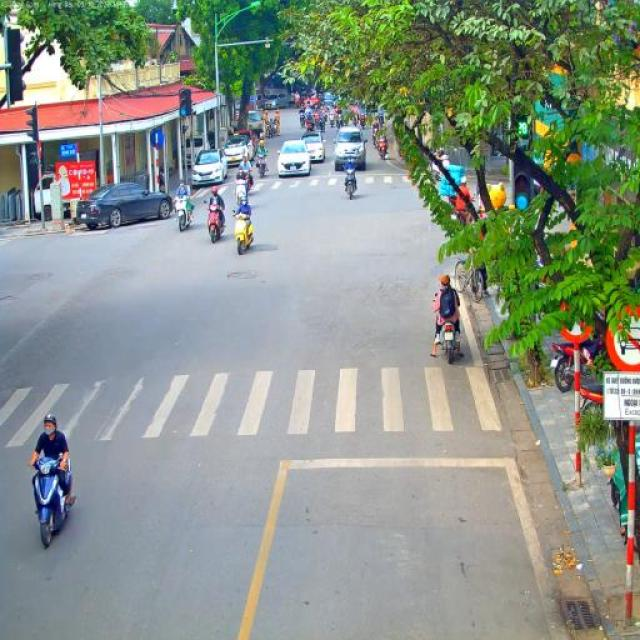car: (76, 180, 173, 230), (332, 126, 368, 172), (190, 148, 228, 186), (277, 138, 312, 178), (221, 140, 254, 175), (300, 130, 326, 164), (224, 132, 251, 152), (268, 94, 290, 110), (254, 94, 270, 110), (322, 93, 333, 106)
motorcycle: (27, 452, 77, 549), (549, 338, 605, 393), (436, 311, 460, 365), (232, 209, 254, 255), (205, 203, 226, 243), (173, 196, 194, 232), (452, 200, 476, 226), (233, 177, 253, 208), (341, 169, 358, 200), (376, 136, 389, 160), (257, 155, 268, 177), (371, 127, 379, 149), (318, 115, 327, 131), (269, 121, 276, 138), (306, 119, 315, 132), (329, 112, 336, 128), (359, 115, 366, 129), (338, 116, 344, 132), (313, 116, 319, 132), (299, 112, 305, 128), (293, 95, 299, 109)
truck: (40, 169, 78, 221), (235, 110, 264, 139), (186, 136, 204, 164)
